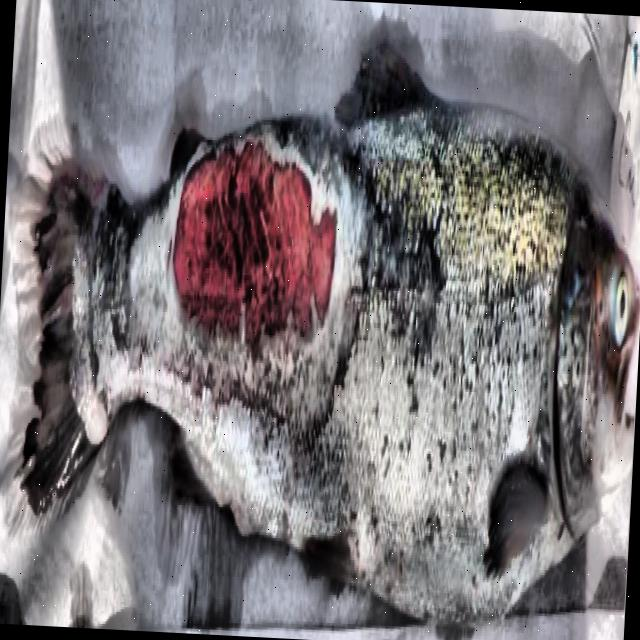mild_red: (138, 101, 583, 619)
wound: (174, 142, 335, 352)
